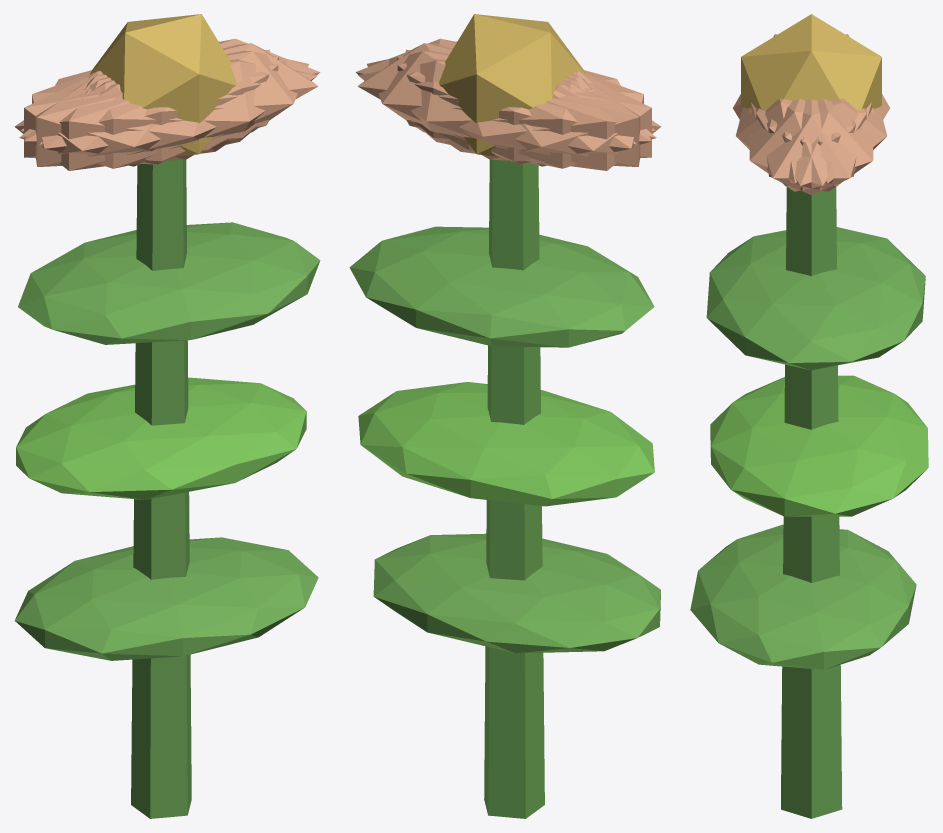
The model's file is peperomia-tetragona.glb.
3 renders of one model, left to right at view 1: azimuth 30°, elevation 25°; view 2: azimuth 150°, elevation 25°; view 3: azimuth 270°, elevation 25°, orthographic.
Visible parts, largest first — view 1: leaf0, leaf2, leaf1, stem, center, petal1, petal6, petal2, petal5, petal7, petal0, petal4 (+2 smaller); view 2: leaf1, leaf2, leaf0, stem, center, petal8, petal3, petal7, petal4, petal2, petal0, petal5 (+2 smaller); view 3: leaf2, leaf1, leaf0, stem, center, petal0, petal4, petal5, petal1, petal8.
Part boxes in pixels (<box>): leaf0: <box>14,537,318,660</box>; leaf2: <box>18,222,320,344</box>; leaf1: <box>16,377,306,499</box>; stem: <box>131,159,191,818</box>; center: <box>90,14,236,156</box>; petal1: <box>19,59,317,168</box>; petal6: <box>14,72,230,170</box>; petal2: <box>35,49,270,166</box>; petal5: <box>39,50,308,161</box>; petal7: <box>24,56,278,164</box>; petal0: <box>89,43,318,150</box>; petal4: <box>20,38,320,141</box>; leaf1: <box>358,382,654,506</box>; leaf2: <box>349,226,654,347</box>; leaf0: <box>373,533,660,653</box>; stem: <box>484,159,544,818</box>; center: <box>439,14,585,156</box>; petal8: <box>358,59,656,168</box>; petal3: <box>445,72,661,170</box>; petal7: <box>405,49,640,166</box>; petal4: <box>367,51,636,161</box>; petal2: <box>397,56,651,164</box>; petal0: <box>357,43,586,150</box>; petal5: <box>355,38,655,141</box>; leaf2: <box>706,227,925,370</box>; leaf1: <box>710,375,928,516</box>; leaf0: <box>690,524,916,669</box>; stem: <box>781,187,842,818</box>; center: <box>741,14,881,110</box>; petal0: <box>751,99,871,195</box>; petal4: <box>756,99,873,191</box>; petal5: <box>749,99,866,191</box>; petal1: <box>736,98,855,183</box>; petal8: <box>767,98,887,183</box>.
Size of the model in its own units: 0.1452 by 0.3701 by 0.1035.
